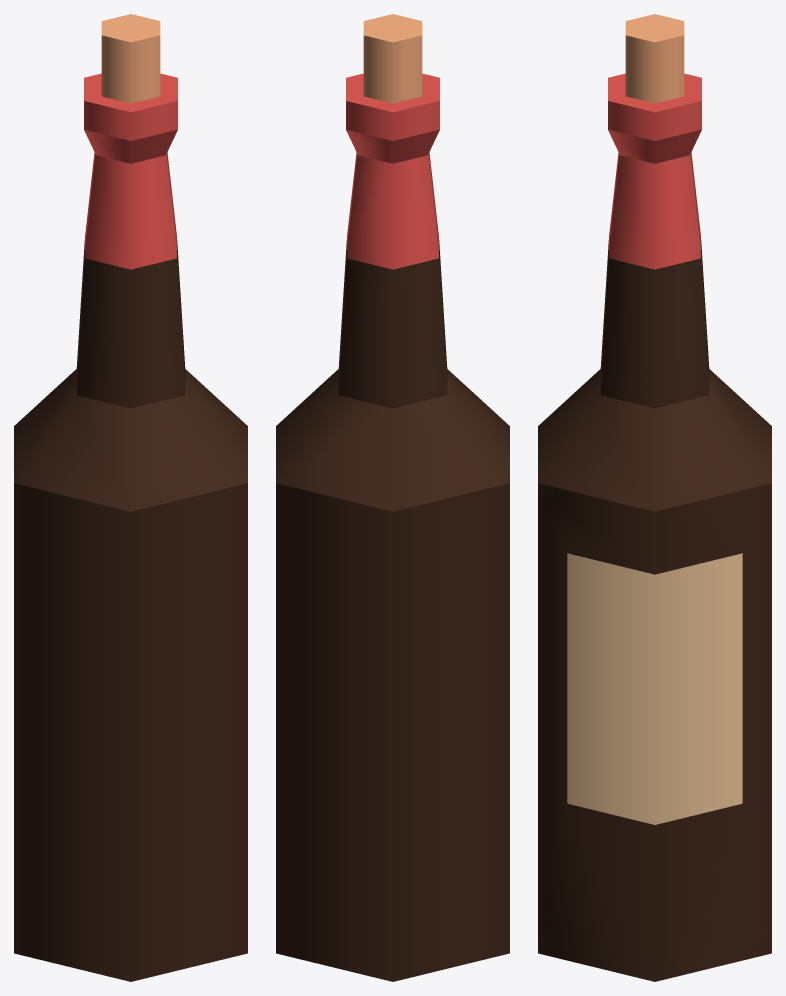
File: red_wine.gltf
The picture shows the model from 3 angles, left to right: view 1: azimuth 30°, elevation 25°; view 2: azimuth 150°, elevation 25°; view 3: azimuth 270°, elevation 25°; orthographic projection.
Visible parts, largest first — view 1: wineRed; view 2: wineRed; view 3: wineRed.
Boxes of the visible parts, box(x1,y1,x2,y2) form: wineRed: box(14, 14, 247, 981); wineRed: box(276, 14, 509, 981); wineRed: box(538, 14, 771, 981).
Size of the model in its own units: 0.1908 by 0.6989 by 0.1652.
